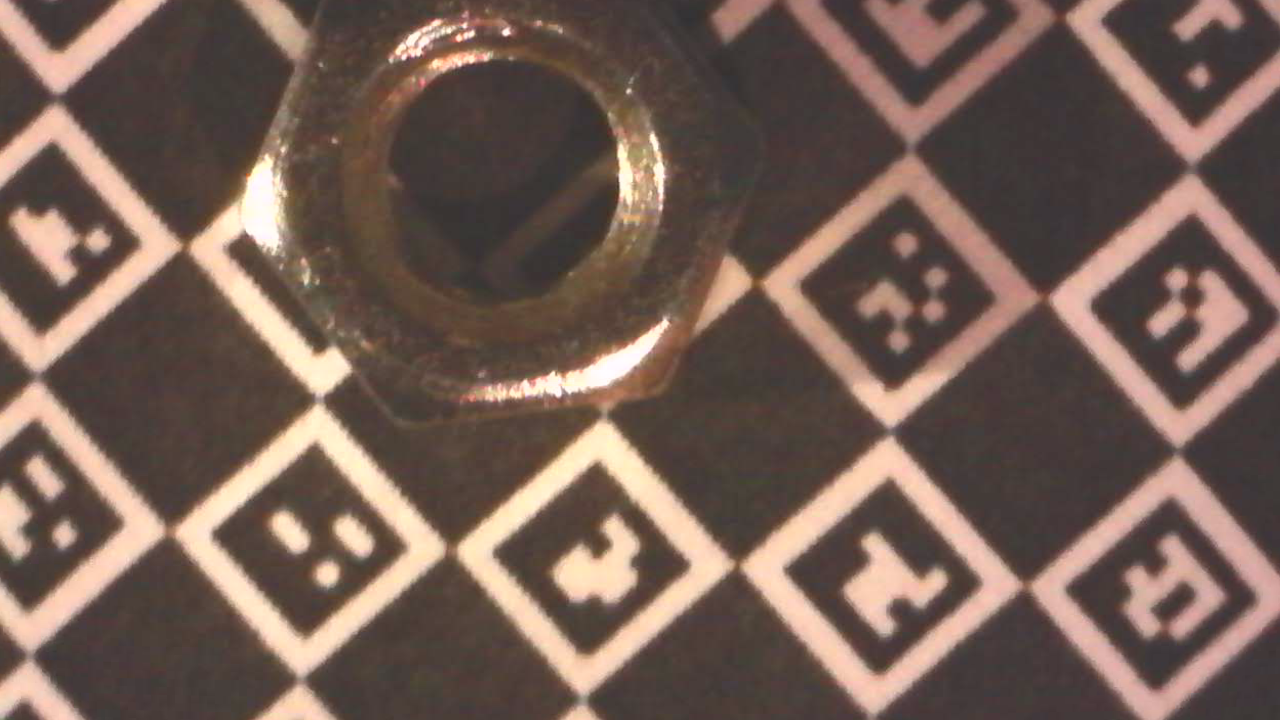Bolt: (237, 0, 773, 432)
